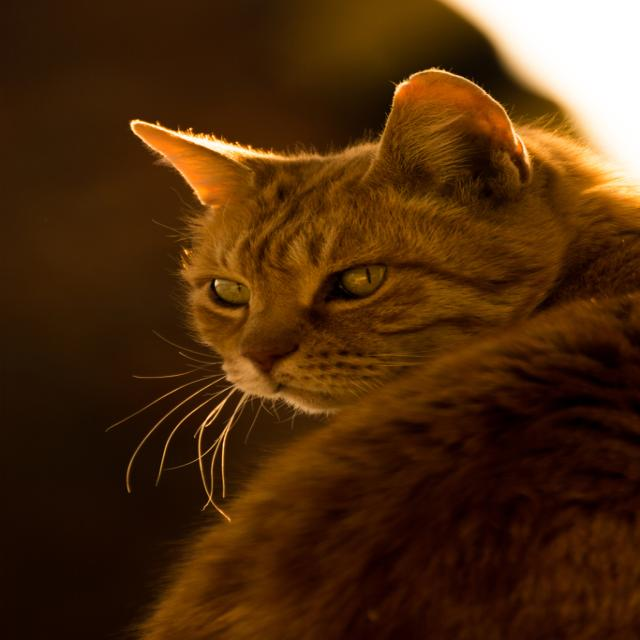Cat: (98, 71, 638, 639)
